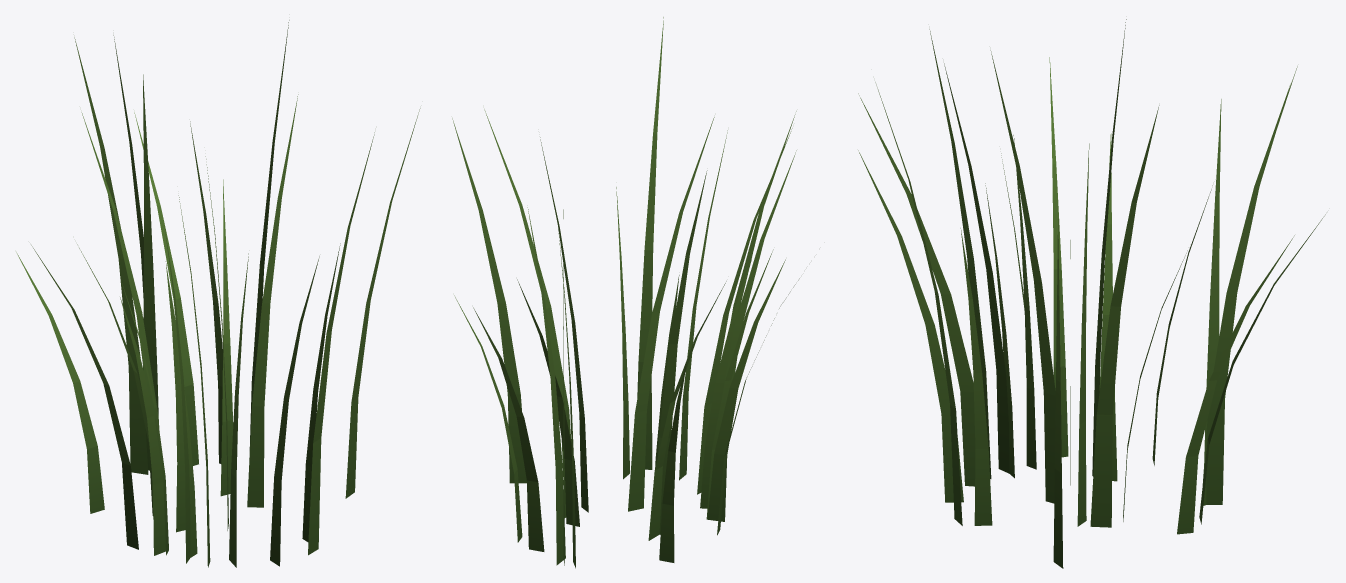
The model's file is grass-blades.glb.
The picture shows the model from 3 angles, left to right: view 1: azimuth 30°, elevation 25°; view 2: azimuth 150°, elevation 25°; view 3: azimuth 270°, elevation 25°; orthographic projection. The views are drawn at different scales.
Parts seen in each view (by area): view 1: tuft; view 2: tuft; view 3: tuft.
Boxes of the visible parts, x1=… form: tuft: x1=16, y1=20, x2=420, y2=567; tuft: x1=452, y1=17, x2=799, y2=568; tuft: x1=858, y1=19, x2=1325, y2=568.
Bounding box in the file's own units: 0.414 × 0.448 × 0.4158.
